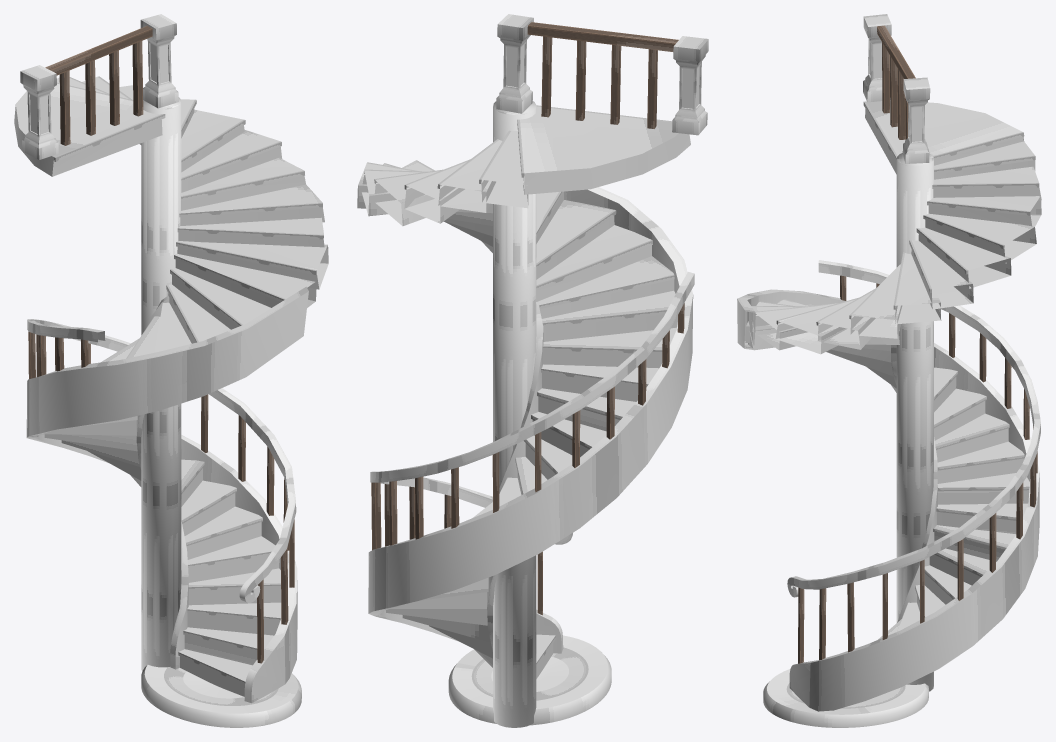
The model's file is SM_AlchemyS_Spiral_Stairs.fbx.
3 views of the same model, side by side, from view 1: azimuth 30°, elevation 25°; view 2: azimuth 150°, elevation 25°; view 3: azimuth 270°, elevation 25° (orthographic). The views are drawn at different scales.
Visible parts, largest first — view 1: SM_AlchemyS_Spiral_Stairs_LOD0; view 2: SM_AlchemyS_Spiral_Stairs_LOD0; view 3: SM_AlchemyS_Spiral_Stairs_LOD0.
Boxes of the visible parts, box(x1,y1,x2,y2) form: SM_AlchemyS_Spiral_Stairs_LOD0: box(14, 14, 328, 727); SM_AlchemyS_Spiral_Stairs_LOD0: box(357, 14, 708, 727); SM_AlchemyS_Spiral_Stairs_LOD0: box(737, 14, 1041, 727).
Size of the model in its own units: 328 by 320 by 700.
